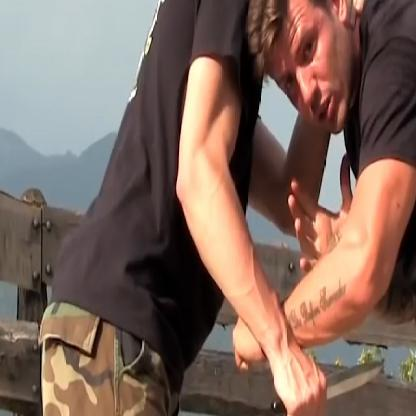knife: (266, 345, 392, 415)
